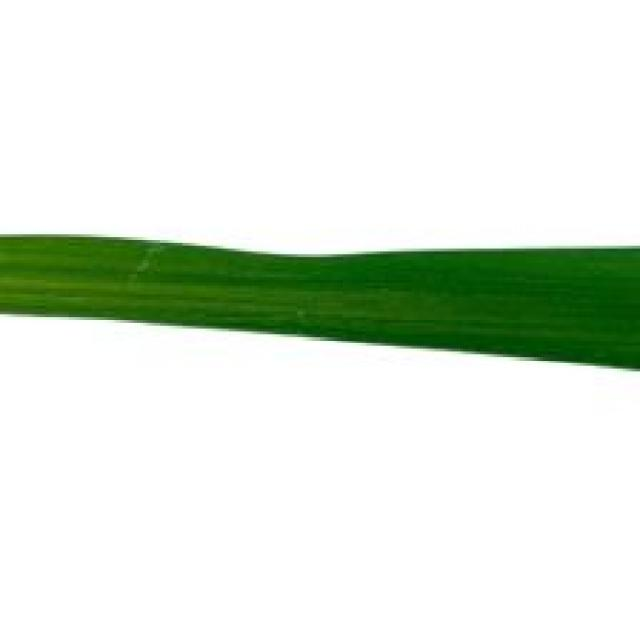Rice___Healthy_Rice_Plant: (0, 234, 637, 376)
